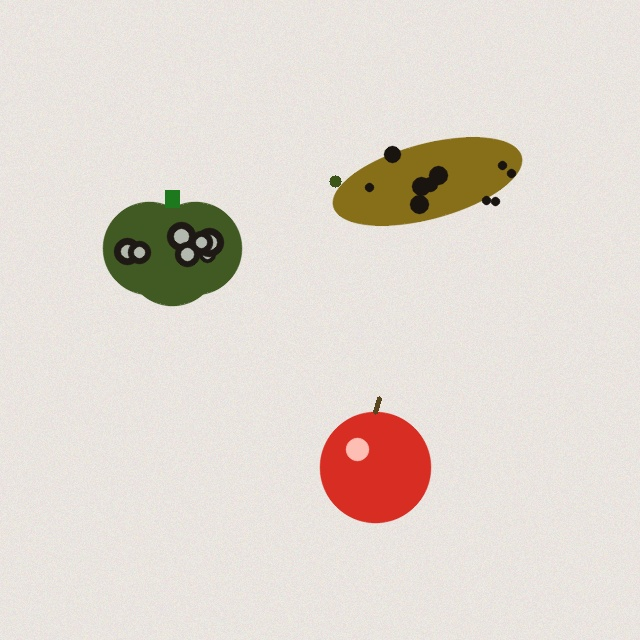Fresh apple: (320, 398, 430, 522)
Rotten banana: (326, 135, 528, 227)
Rotten bell pepper: (103, 190, 241, 305)
